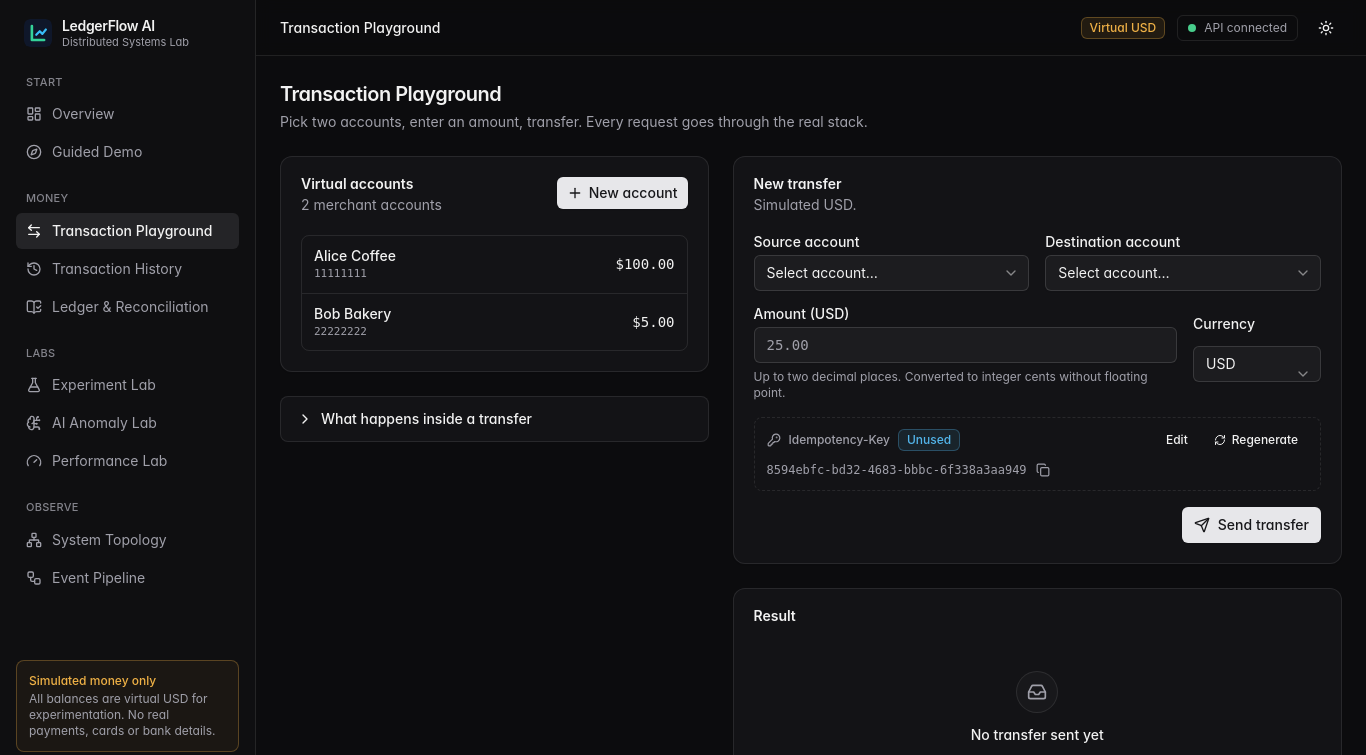
Test: transfer validation › requires accounts and a valid amount before sending anything
expect the form named "Transfer funds" is shown: met, box left=754, top=235, right=1321, bottom=543
Step 1. Click the button "Send transfer" → {"x": 1251, "y": 525}, box left=1182, top=507, right=1321, bottom=543
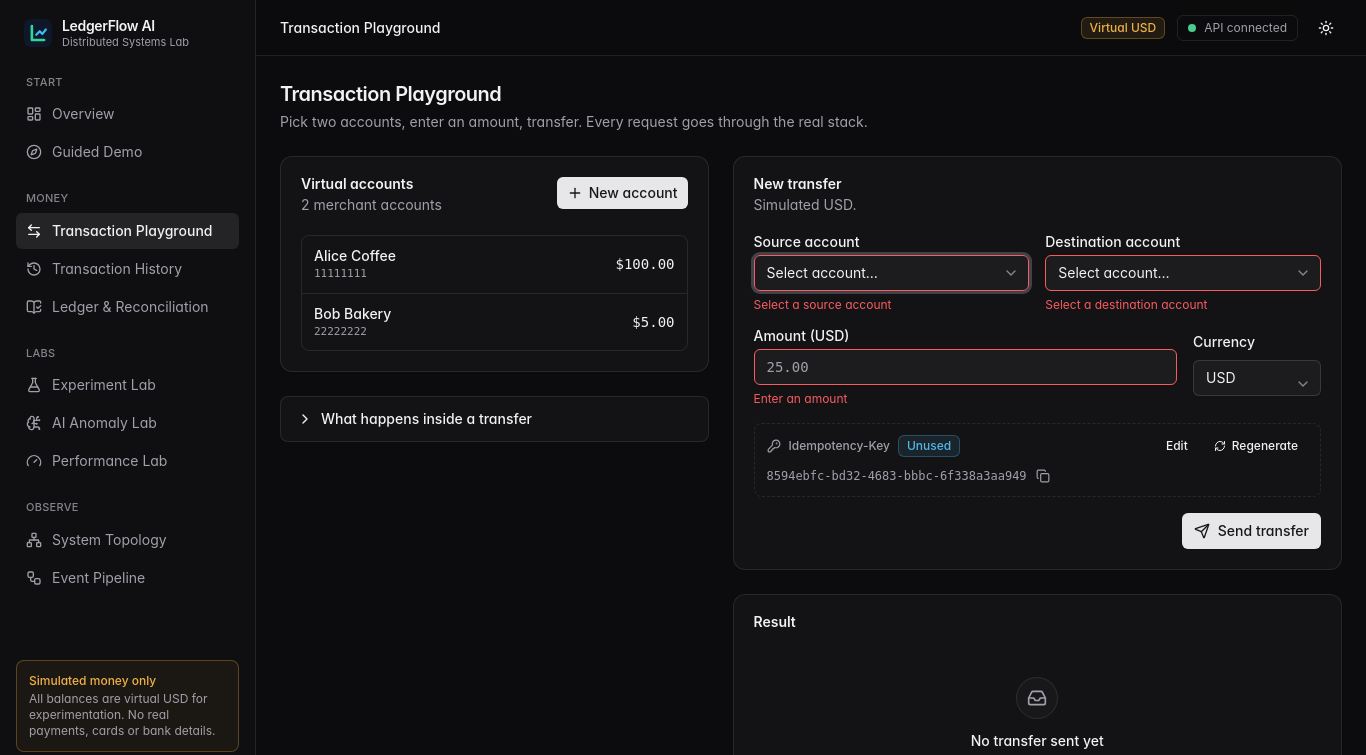
expect the text "Select a source account" is shown: met, box left=754, top=297, right=892, bottom=312
expect the text "Select a destination account" is shown: met, box left=1045, top=297, right=1208, bottom=312
expect the text "Enter an amount" is shown: met, box left=754, top=391, right=848, bottom=406
